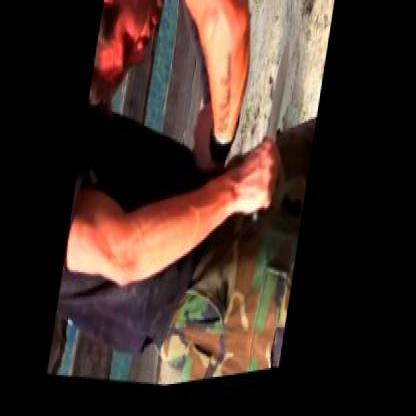knife: (247, 36, 302, 240)
